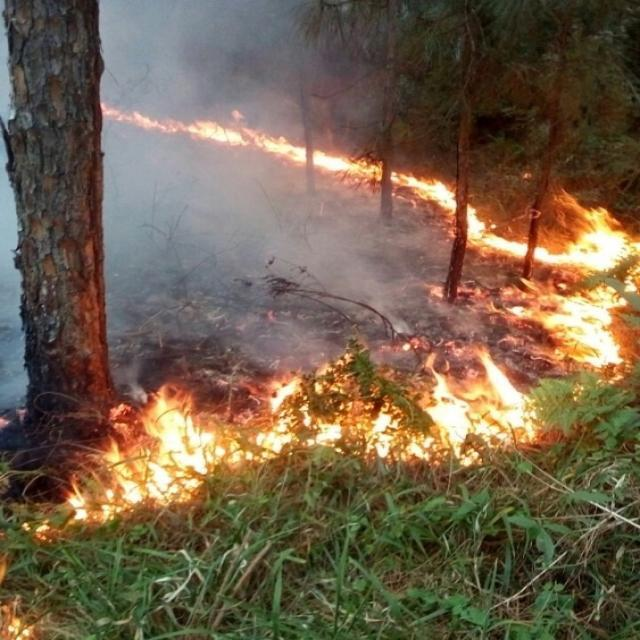Fire: (21, 96, 640, 544), (1, 599, 34, 640)
Smoke: (98, 1, 534, 401), (1, 14, 30, 416)
